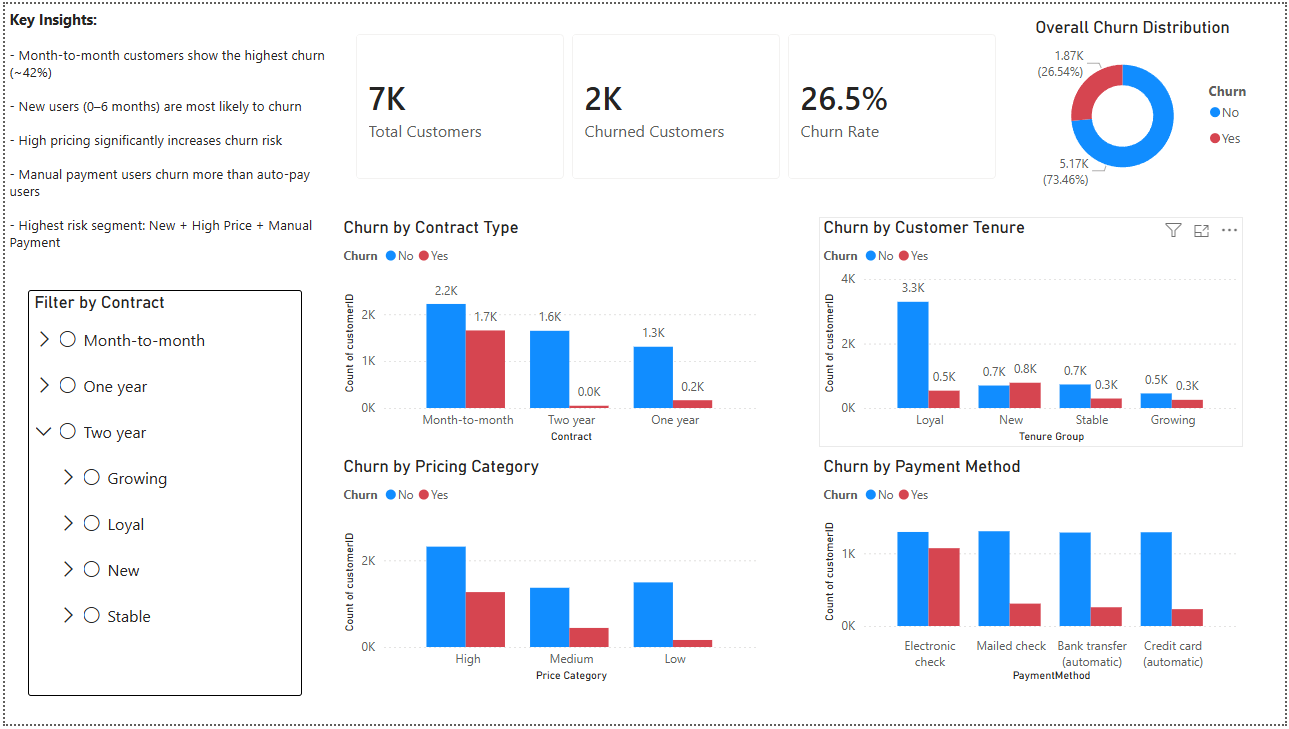

Layout of this report page (visuals, bound fields, positions):
{"tool":"powerbi","page":{"name":"Page 1","canvas":[1280,720],"ordinal":0},"visuals":[{"type":"clusteredColumnChart","title":"Churn by Contract Type","fields":{"Category":["WA_Fn-UseC_-Telco-Customer-Chur.Contract"],"Y":["CountNonNull(WA_Fn-UseC_-Telco-Customer-Chur.customerID)"],"Series":["WA_Fn-UseC_-Telco-Customer-Chur.Churn"]},"box":[334,213,424,230],"z":0},{"type":"clusteredColumnChart","title":"Churn by Customer Tenure","fields":{"Category":["WA_Fn-UseC_-Telco-Customer-Chur.Tenure Group"],"Series":["WA_Fn-UseC_-Telco-Customer-Chur.Churn"],"Y":["CountNonNull(WA_Fn-UseC_-Telco-Customer-Chur.customerID)"]},"box":[814,213,424,230],"z":1000},{"type":"clusteredColumnChart","title":"Churn by Pricing Category","fields":{"Category":["WA_Fn-UseC_-Telco-Customer-Chur.Price Category"],"Series":["WA_Fn-UseC_-Telco-Customer-Chur.Churn"],"Y":["CountNonNull(WA_Fn-UseC_-Telco-Customer-Chur.customerID)"]},"box":[334,452,424,230],"z":2000},{"type":"clusteredColumnChart","title":"Churn by Payment Method","fields":{"Category":["WA_Fn-UseC_-Telco-Customer-Chur.PaymentMethod"],"Series":["WA_Fn-UseC_-Telco-Customer-Chur.Churn"],"Y":["CountNonNull(WA_Fn-UseC_-Telco-Customer-Chur.customerID)"]},"box":[814,452,424,230],"z":3000},{"type":"cardVisual","fields":{"Data":["WA_Fn-UseC_-Telco-Customer-Chur.Total Customers","WA_Fn-UseC_-Telco-Customer-Chur.Churned Customers","WA_Fn-UseC_-Telco-Customer-Chur.Churn Rate"]},"box":[334,13,674,179],"z":4000},{"type":"listSlicer","title":"Filter by Contract","fields":{"Values":["WA_Fn-UseC_-Telco-Customer-Chur.Contract","WA_Fn-UseC_-Telco-Customer-Chur.Tenure Group","WA_Fn-UseC_-Telco-Customer-Chur.Price Category"]},"box":[23,286,274,406],"z":5000},{"type":"textbox","box":[0,0,333,252],"z":6000},{"type":"donutChart","title":"Overall Churn Distribution","fields":{"Category":["WA_Fn-UseC_-Telco-Customer-Chur.Churn"],"Y":["CountNonNull(WA_Fn-UseC_-Telco-Customer-Chur.customerID)"]},"box":[1026,13,241,179],"z":7000}]}

Visuals, with their boxes in screenshot pixels (x1, y1, x2, y2), scaled from the page's 1280x720 canvas onto the 1289x729 screenshot:
"Churn by Contract Type" clusteredColumnChart: (left=336, top=216, right=763, bottom=449)
"Churn by Customer Tenure" clusteredColumnChart: (left=820, top=216, right=1247, bottom=449)
"Churn by Pricing Category" clusteredColumnChart: (left=336, top=458, right=763, bottom=691)
"Churn by Payment Method" clusteredColumnChart: (left=820, top=458, right=1247, bottom=691)
cardVisual - WA_Fn-UseC_-Telco-Customer-Chur.Total Customers x WA_Fn-UseC_-Telco-Customer-Chur.Churned Customers: (left=336, top=13, right=1015, bottom=194)
"Filter by Contract" listSlicer: (left=23, top=290, right=299, bottom=701)
textbox: (left=0, top=0, right=335, bottom=255)
"Overall Churn Distribution" donutChart: (left=1033, top=13, right=1276, bottom=194)
